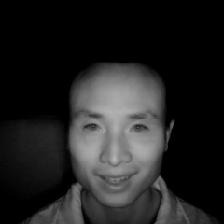happy: (55, 48, 193, 208)
